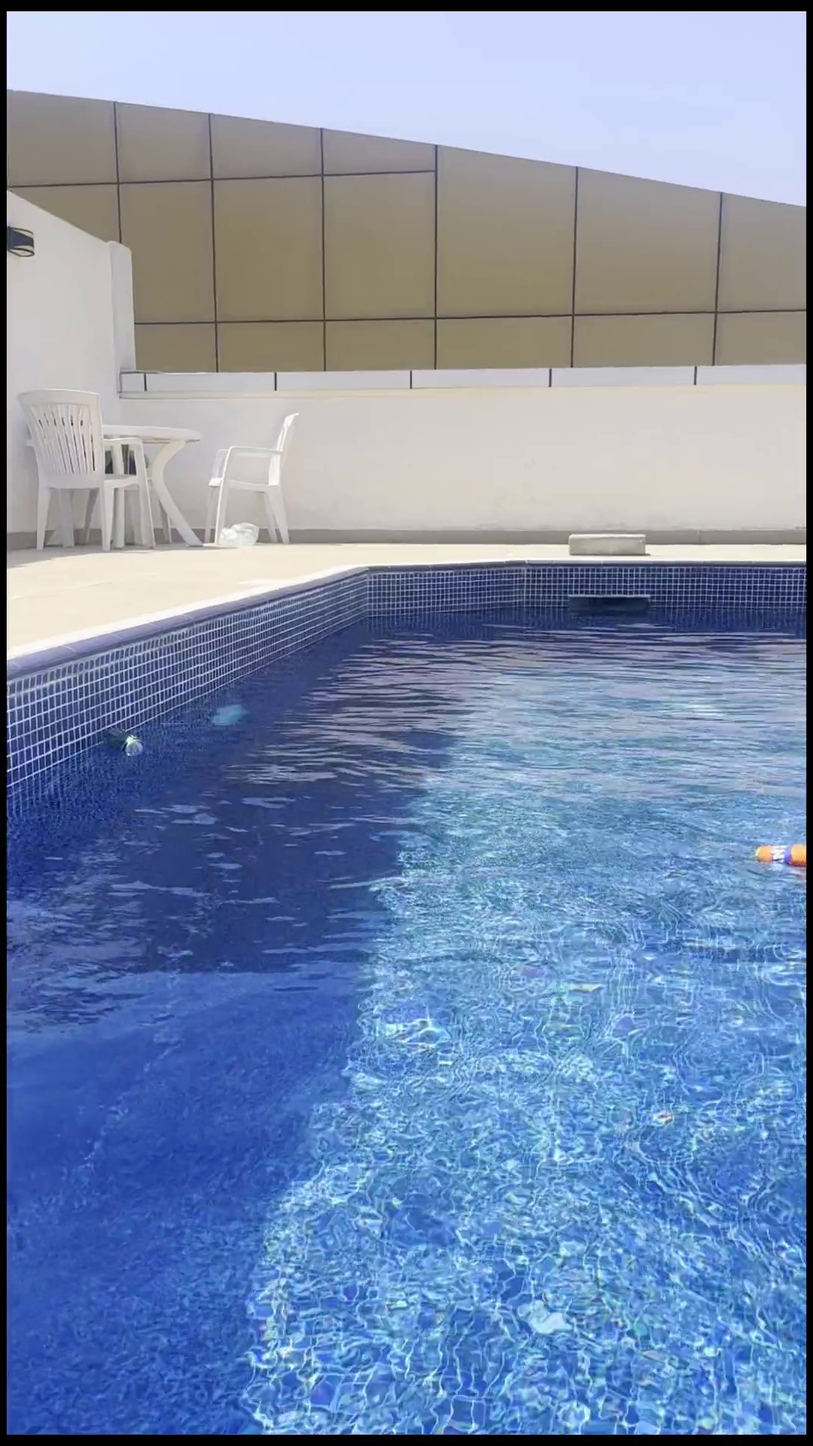debris: (751, 831, 802, 877), (97, 720, 142, 772)
